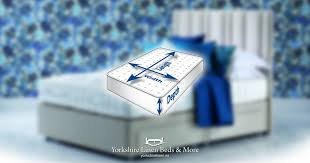bed-matress: (38, 68, 274, 122)
